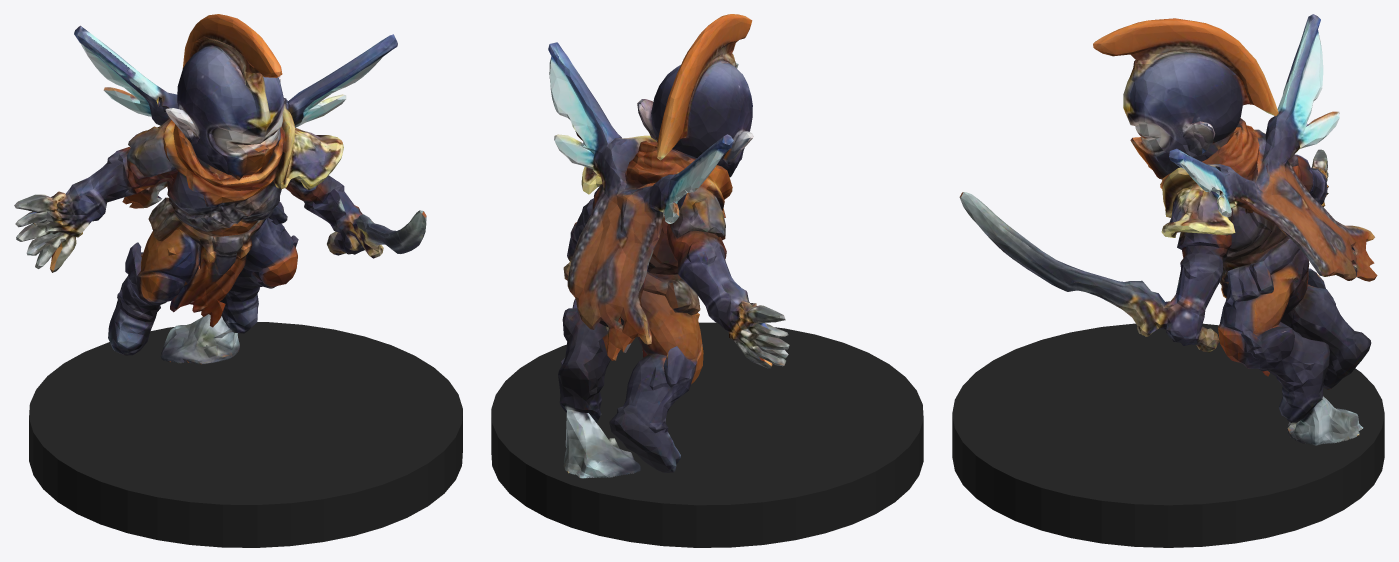
Rendered from cv-shade-runner.glb.
The picture shows the model from 3 angles, left to right: view 1: azimuth 30°, elevation 25°; view 2: azimuth 150°, elevation 25°; view 3: azimuth 270°, elevation 25°; orthographic projection.
Visible parts, largest first — view 1: base, figure; view 2: base, figure; view 3: base, figure.
Boxes of the visible parts, x1,y1,x2,y2 form: base: (29,322,462,547); figure: (14,14,426,364); base: (491,322,923,547); figure: (548,14,789,478); base: (952,323,1384,547); figure: (959,14,1377,445).
Size of the model in its own units: 1.1 by 1.22 by 1.1.
2 materials, 1 textured.
